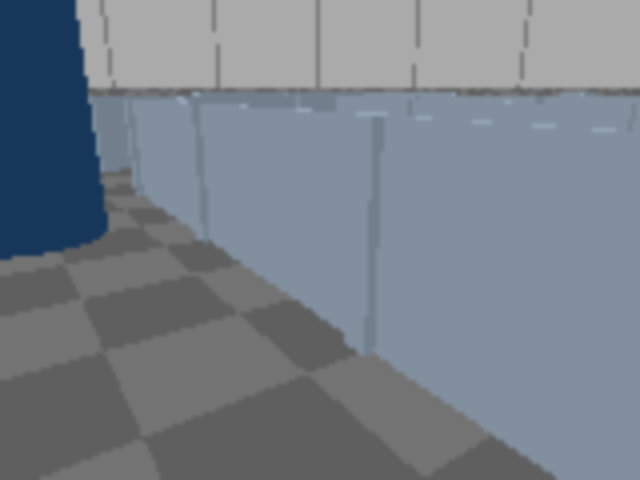person: (0, 0, 107, 254)
